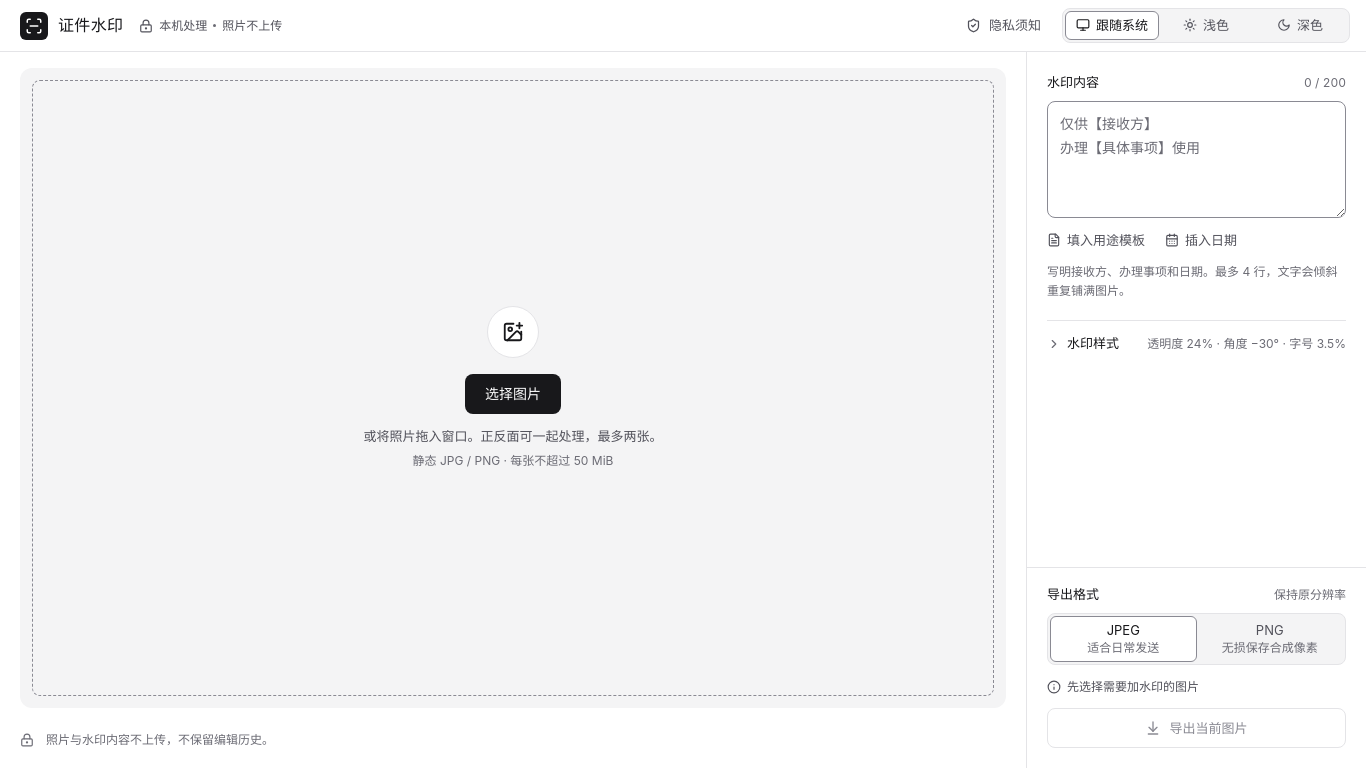
the strip offers a second image, selects it once imported, then says why it is full
The image size is (1366, 768).
Click the button "选择图片" at (90, 388), box [32,80,994,696]
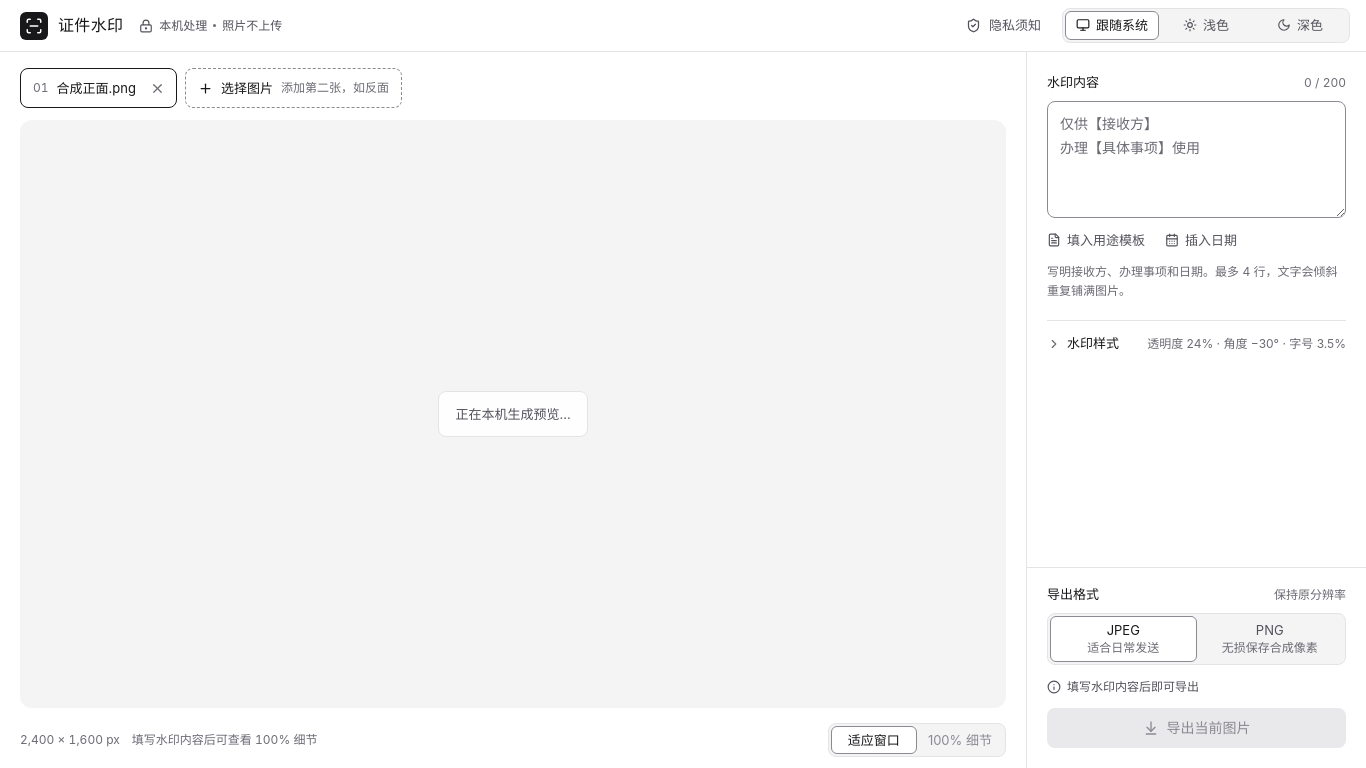
Now the text "合成正面.png" is shown, box [57,78,136,98]
Now the number of buttons "选择图片 添加第二张，如反面" is 1
Click the button "选择图片 添加第二张，如反面" at (293, 88), box [185,68,402,108]
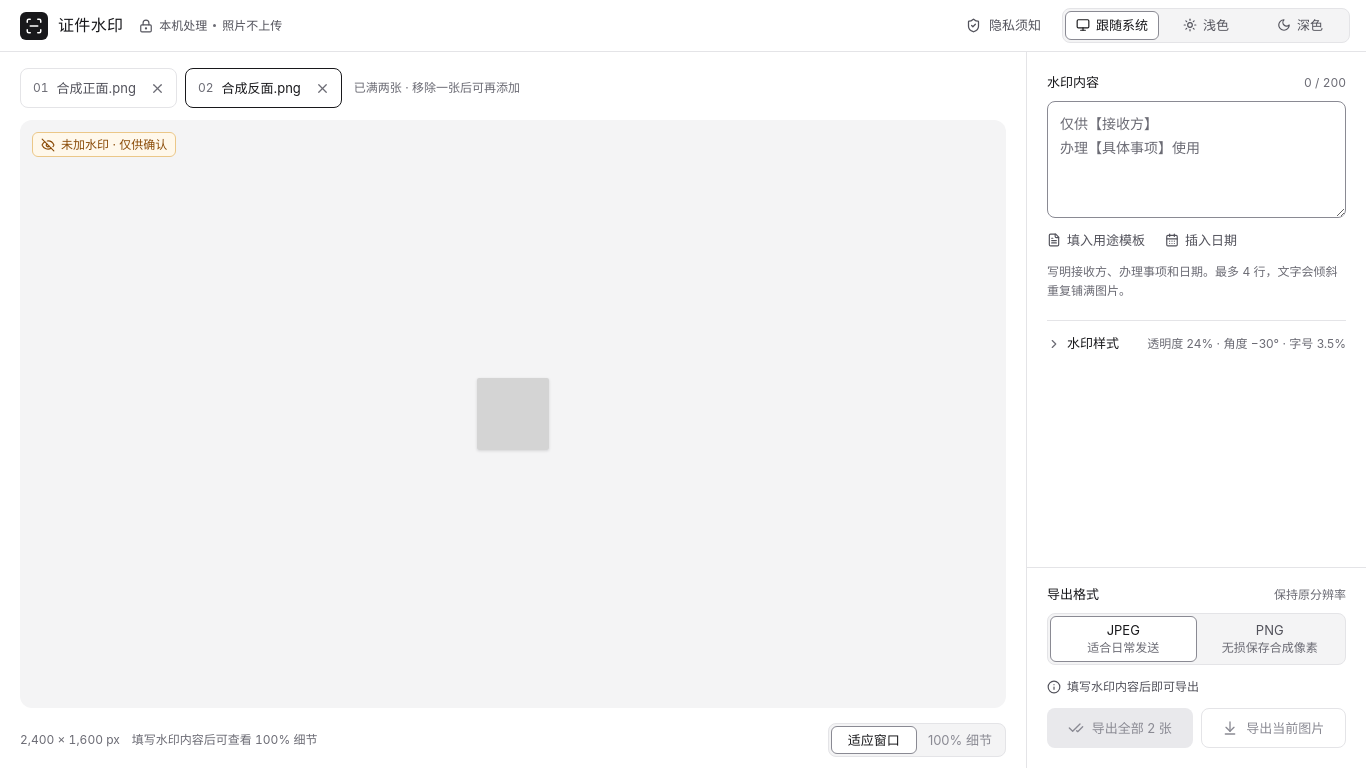
Now the text "合成反面.png" is shown, box [222,78,301,98]
Now the button "选择图片" is gone
Now the text "已满两张 · 移除一张后可再添加" is shown, box [354,80,520,95]
